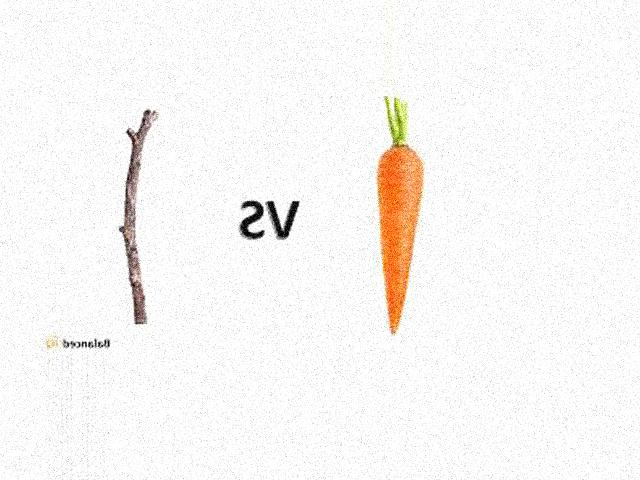carrot: (363, 140, 432, 340)
